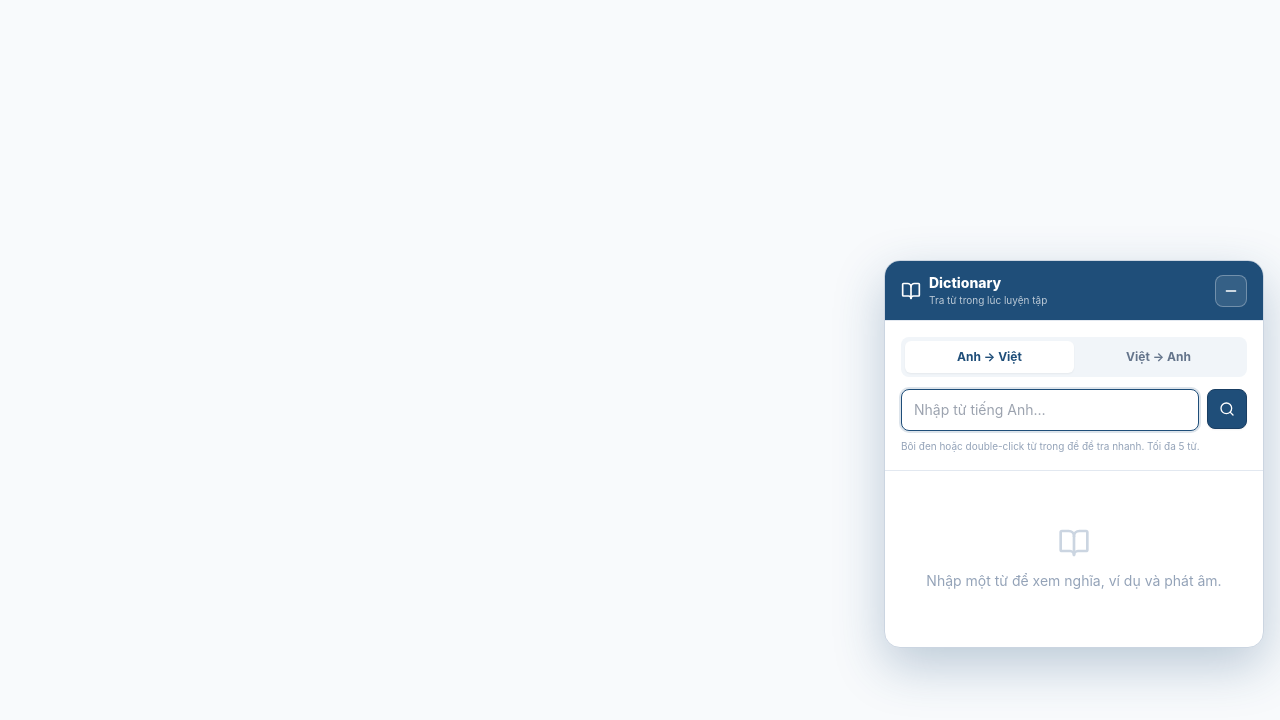
Test: DictionaryPanel › supports Vietnamese to English and maps API errors
Click the button "Việt → Anh" at (1158, 357), box [1074, 341, 1243, 373]
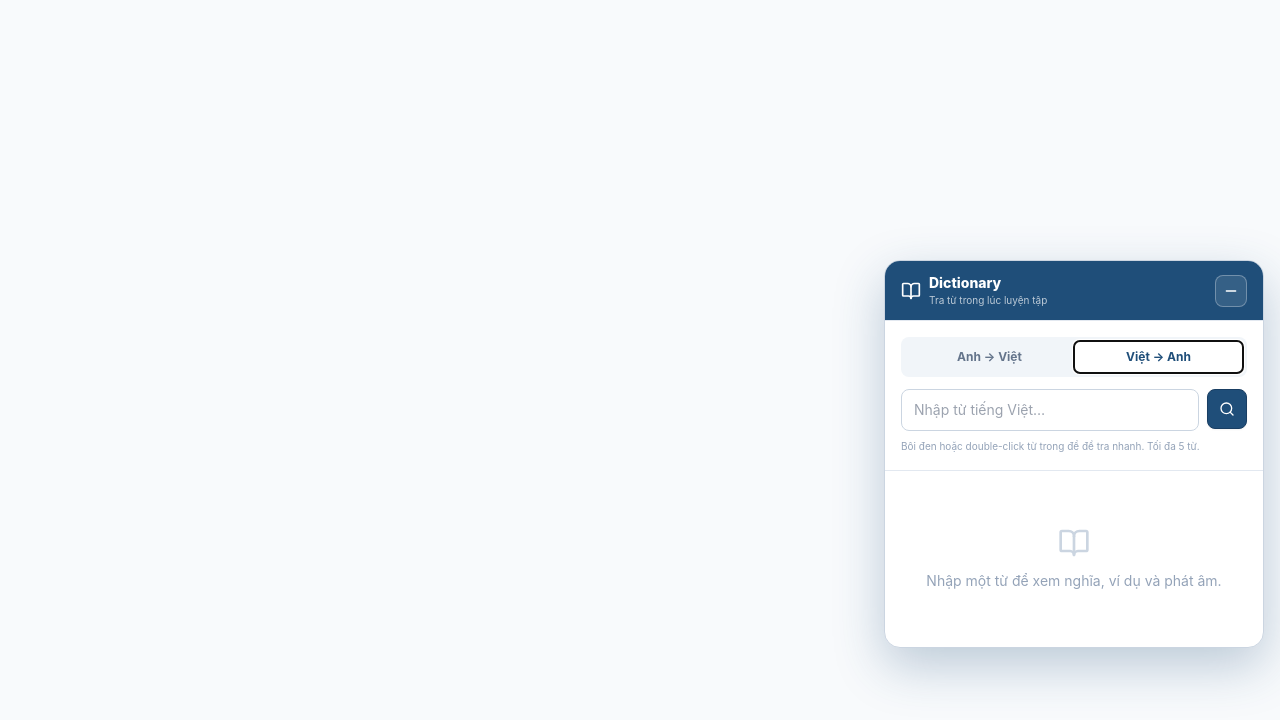
Type "ví dụ" into the field named "Từ cần tra" at (1050, 410), box [901, 389, 1199, 431]
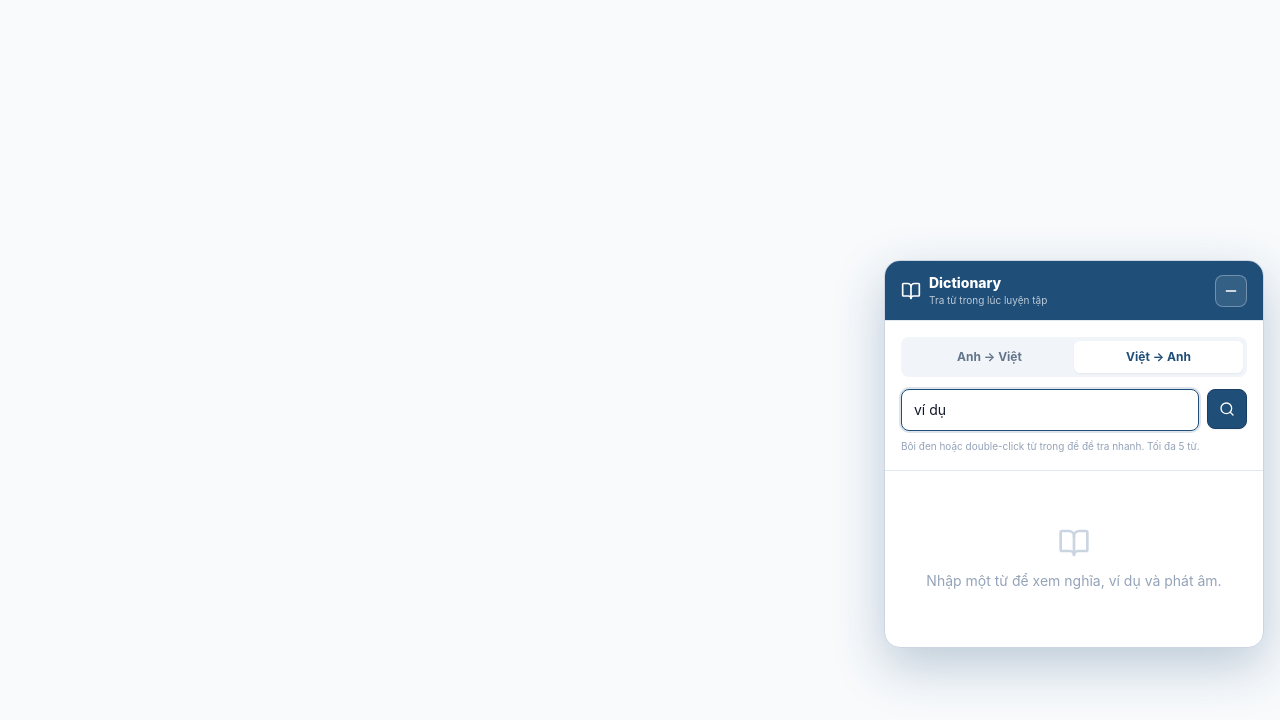
Click the button named "Tra từ" at (1227, 409), box [1207, 389, 1247, 429]
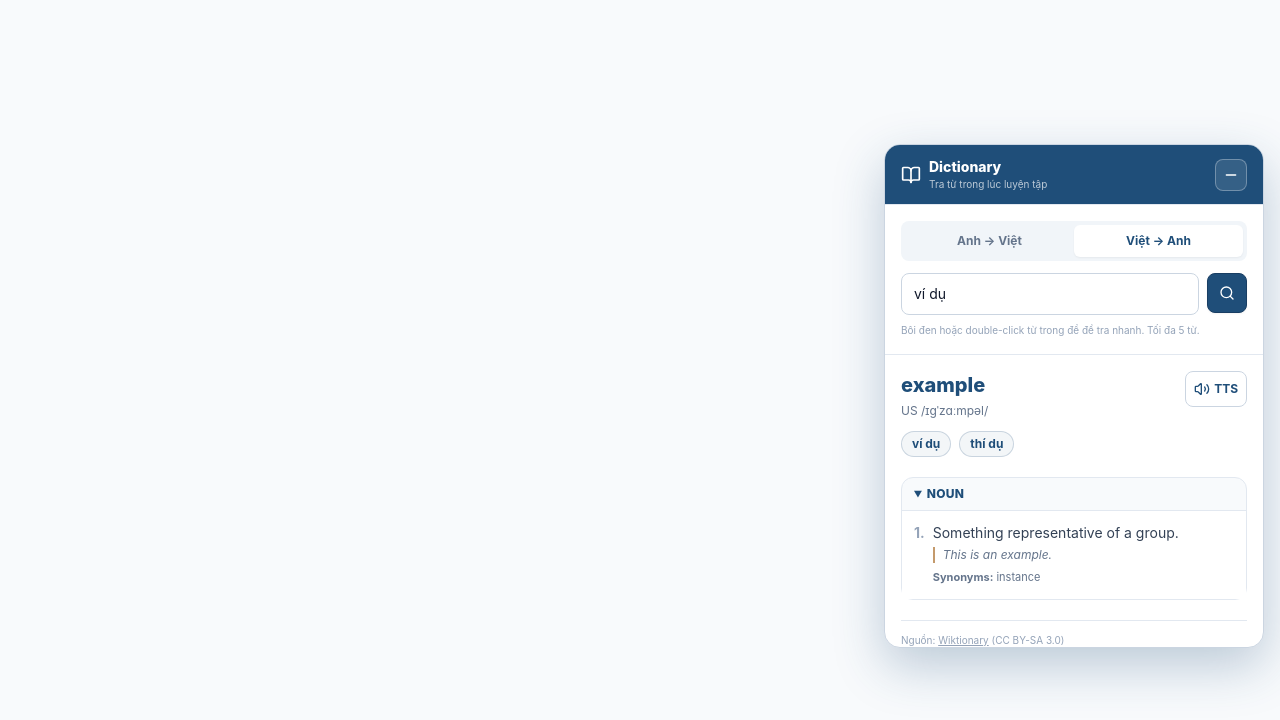
Replace the text in the field named "Từ cần tra" with "không có" at (1050, 294), box [901, 273, 1199, 315]
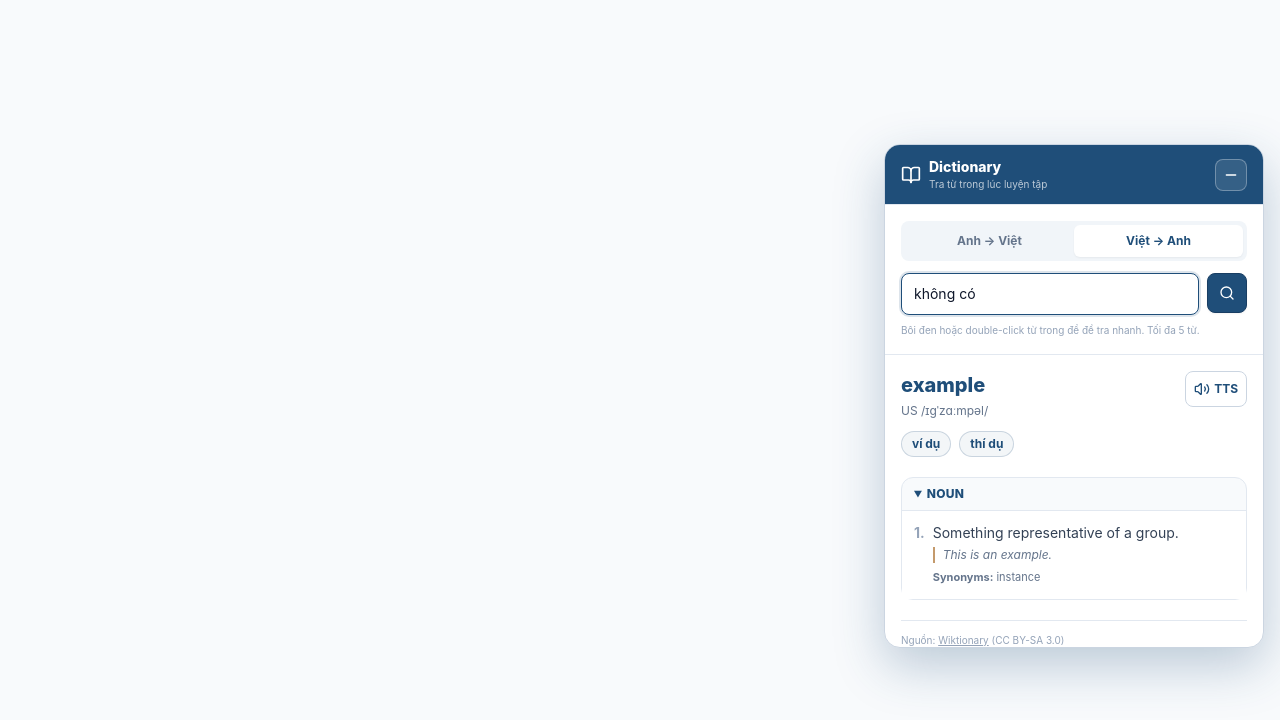
Click the button named "Tra từ" at (1227, 293), box [1207, 273, 1247, 313]
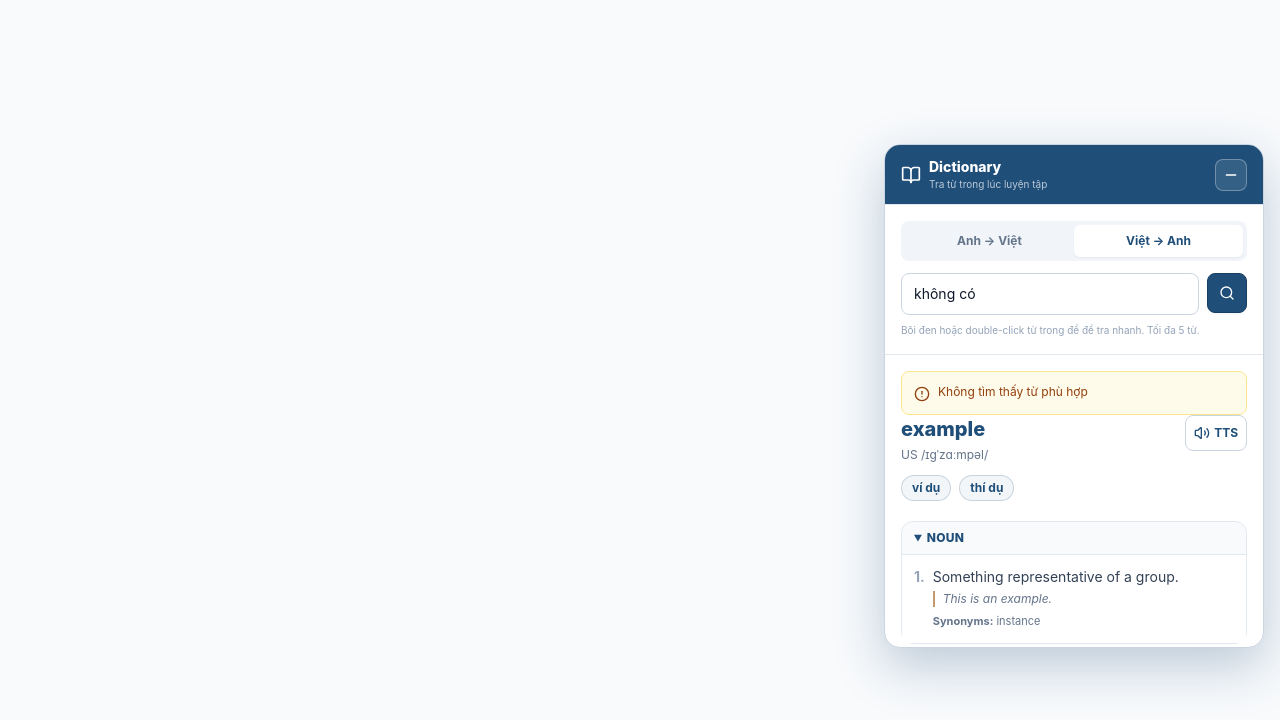
Check: the message reads "Không tìm thấy từ phù hợp", box [938, 384, 1088, 399]
